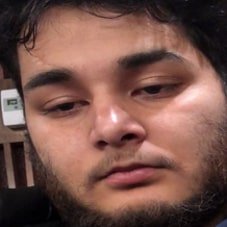drowsy: (21, 46, 198, 198)
